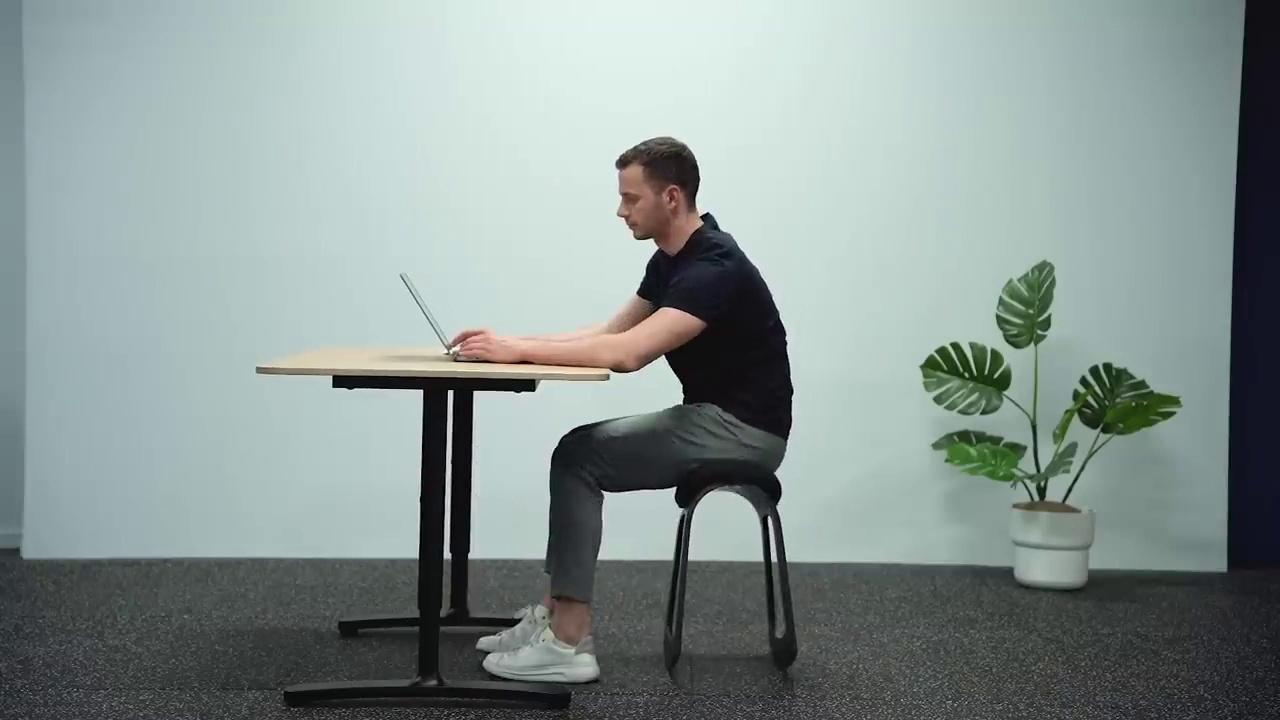GoodPosture: (451, 138, 792, 617)
